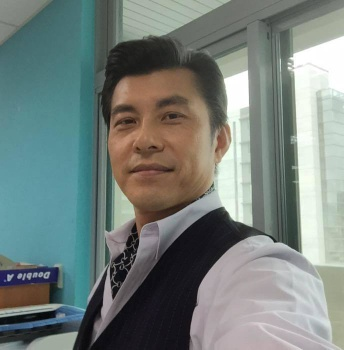male: (91, 31, 237, 222)
